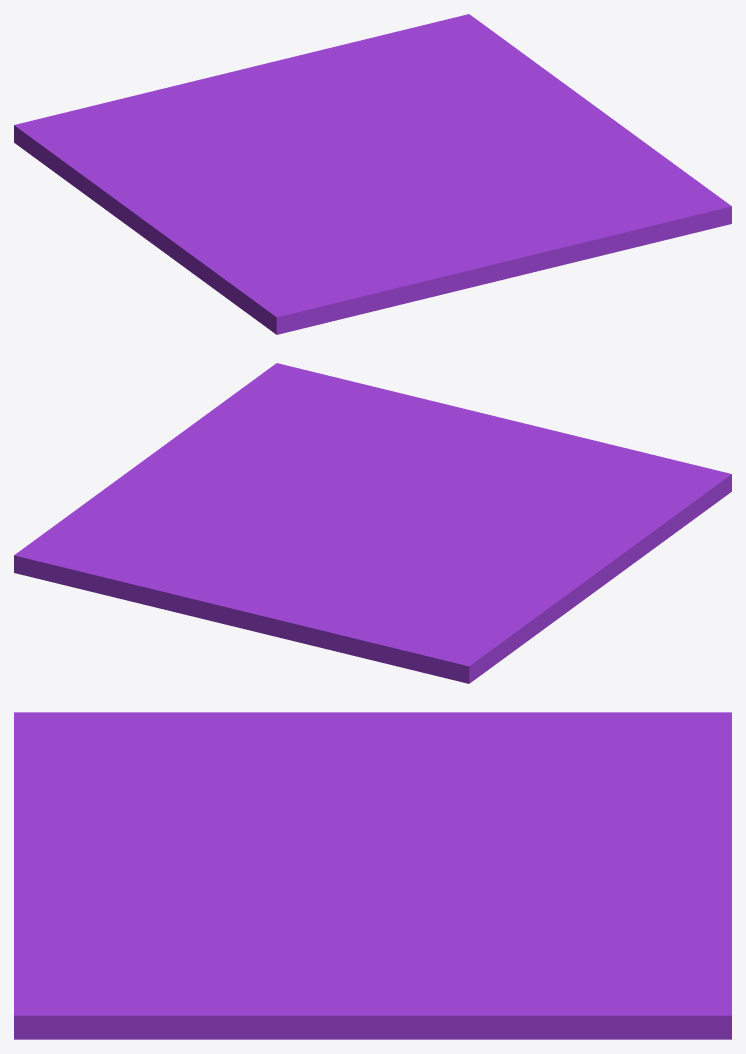
File: Platform_42_chunks.fbx
3 views of the same model, one above another, from view 1: azimuth 30°, elevation 25°; view 2: azimuth 150°, elevation 25°; view 3: azimuth 270°, elevation 25° (orthographic). The views are drawn at different scales.
Visible parts, largest first — view 1: Platform_42_4, Platform_42_6, Platform_42_8, Platform_42_0, Platform_42_14, Platform_42_10, Platform_42_12, Platform_42_9, Platform_42_1, Platform_42_17, Platform_42_18, Platform_42_2 (+4 smaller); view 2: Platform_42_0, Platform_42_8, Platform_42_14, Platform_42_4, Platform_42_6, Platform_42_10, Platform_42_12, Platform_42_1, Platform_42_9, Platform_42_17, Platform_42_18, Platform_42_2 (+4 smaller); view 3: Platform_42_6, Platform_42_4, Platform_42_0, Platform_42_8, Platform_42_14, Platform_42_17, Platform_42_12, Platform_42_10, Platform_42_9, Platform_42_1, Platform_42_18, Platform_42_2 (+6 smaller).
Part boxes in pixels (box(x1,y1,x2,y2)): Platform_42_4: box(323, 199, 562, 323); Platform_42_6: box(503, 166, 731, 265); Platform_42_8: box(70, 163, 277, 296); Platform_42_0: box(14, 61, 276, 170); Platform_42_14: box(316, 17, 456, 129); Platform_42_10: box(225, 221, 366, 334); Platform_42_12: box(349, 112, 632, 168); Platform_42_9: box(185, 160, 381, 223); Platform_42_1: box(238, 51, 360, 161); Platform_42_17: box(513, 75, 676, 166); Platform_42_18: box(448, 14, 552, 95); Platform_42_2: box(52, 138, 279, 193); Platform_42_0: box(207, 583, 510, 683); Platform_42_8: box(463, 512, 680, 632); Platform_42_14: box(26, 515, 310, 605); Platform_42_4: box(392, 405, 663, 497); Platform_42_6: box(222, 363, 447, 452); Platform_42_10: box(491, 457, 731, 528); Platform_42_12: box(226, 419, 374, 541); Platform_42_1: box(150, 521, 397, 620); Platform_42_9: box(368, 489, 524, 584); Platform_42_17: box(98, 403, 243, 498); Platform_42_18: box(14, 494, 188, 577); Platform_42_2: box(398, 551, 539, 655); Platform_42_6: box(14, 901, 253, 1039); Platform_42_4: box(14, 757, 278, 901); Platform_42_0: box(560, 712, 731, 886); Platform_42_8: box(156, 712, 579, 778); Platform_42_14: box(474, 876, 731, 1007); Platform_42_17: box(164, 972, 501, 1039); Platform_42_12: box(193, 862, 490, 993); Platform_42_10: box(14, 712, 252, 822); Platform_42_9: box(221, 771, 506, 866); Platform_42_1: box(396, 823, 731, 913); Platform_42_18: box(474, 950, 731, 1039); Platform_42_2: box(448, 712, 619, 819).
Bounding box in the file's own units: 810 × 29.87 × 810.
